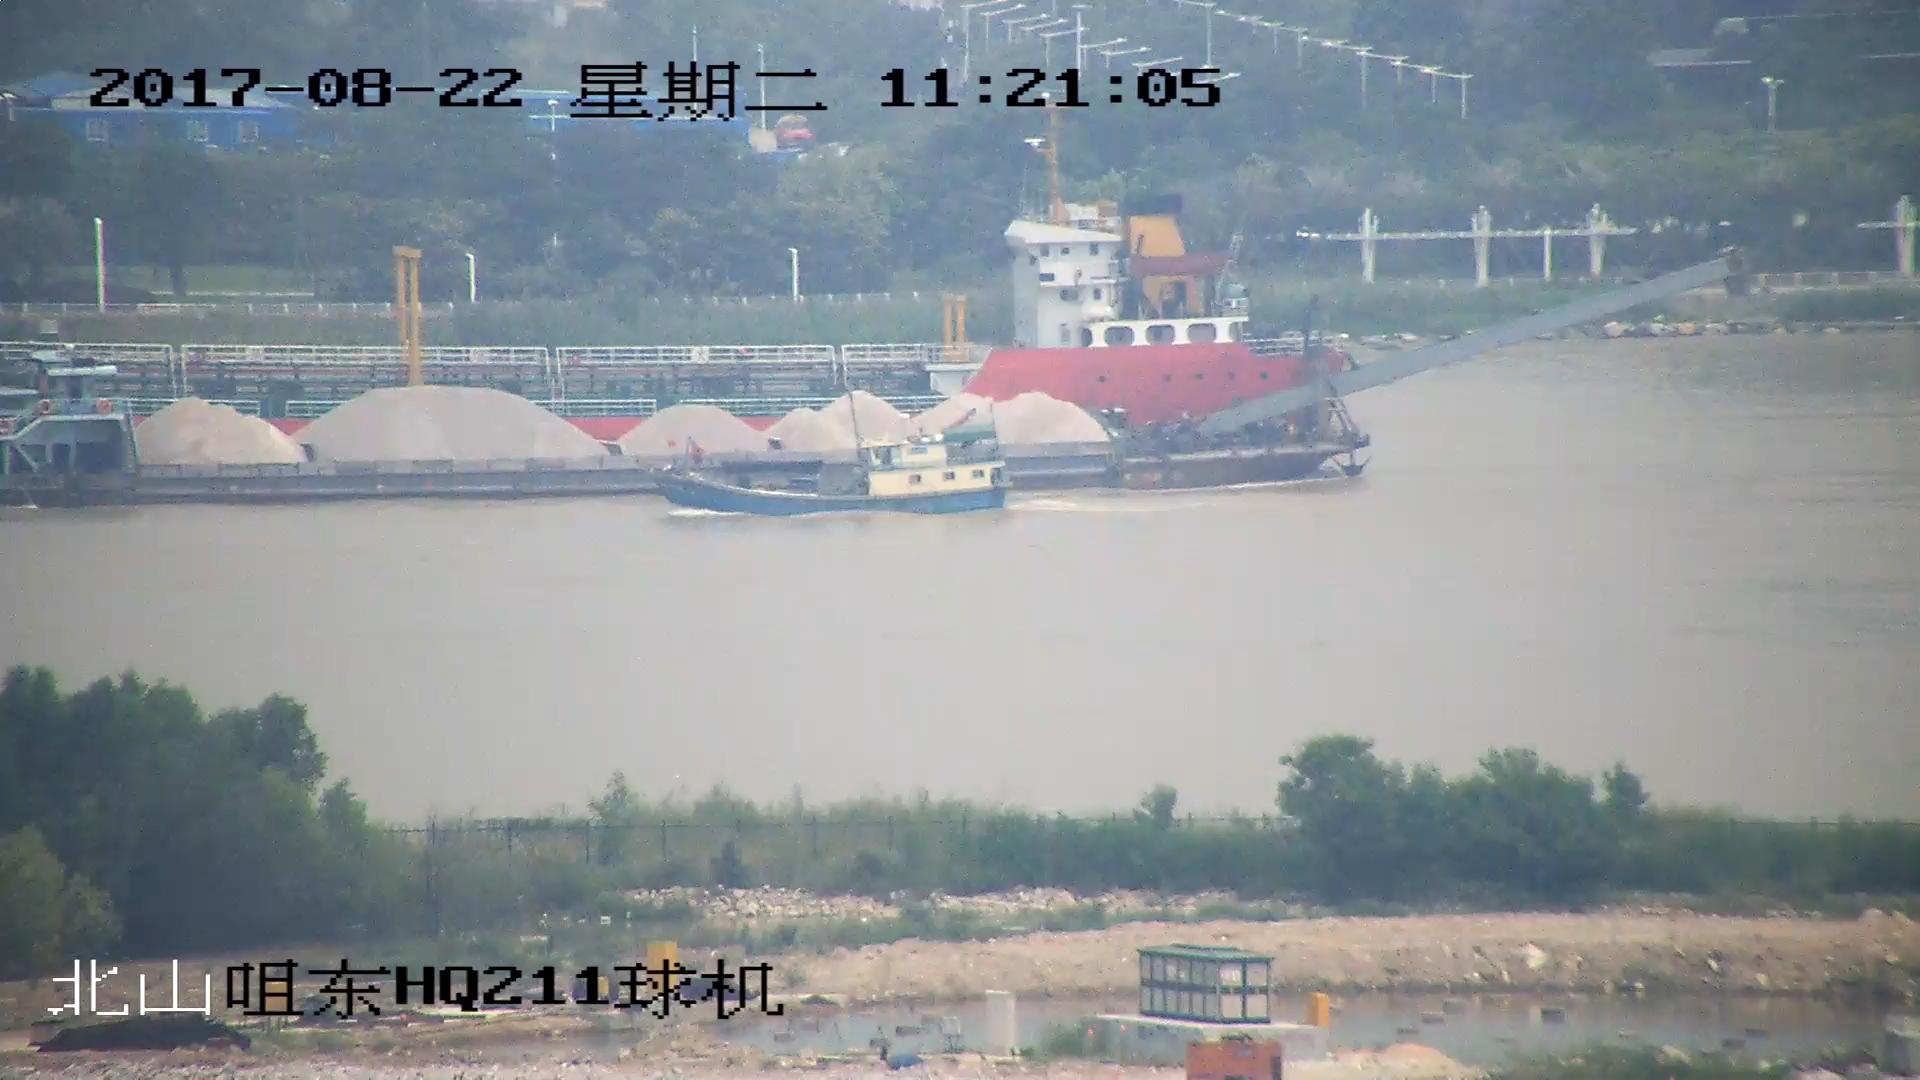fishing boat: (650, 431, 1012, 520)
general cargo ship: (1, 112, 1344, 439)
ore carrier: (1, 256, 1738, 504)
